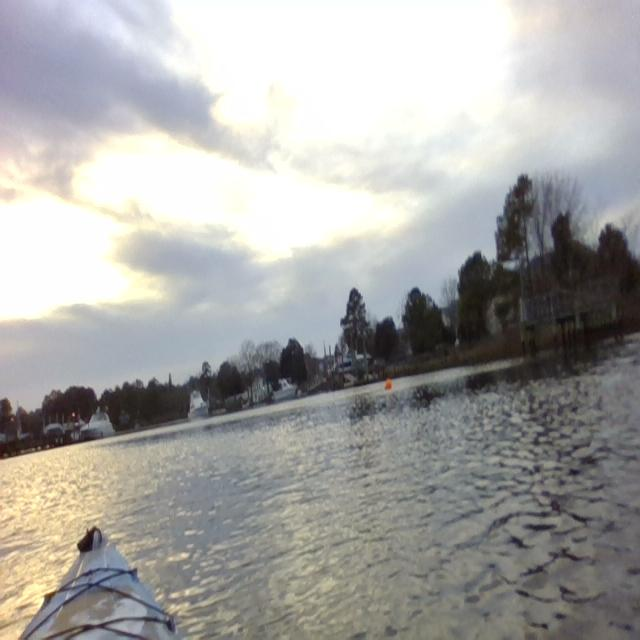Buoy: (384, 375, 394, 396)
